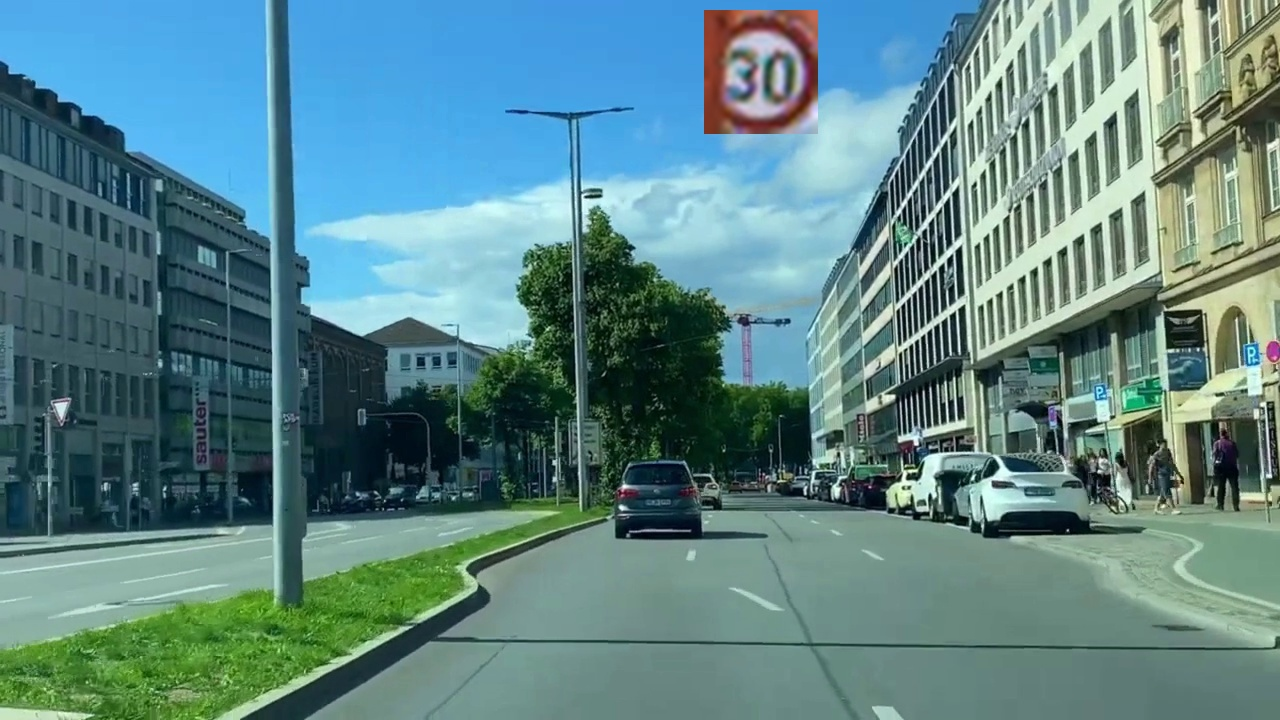Speed 30: (704, 10, 818, 134)
